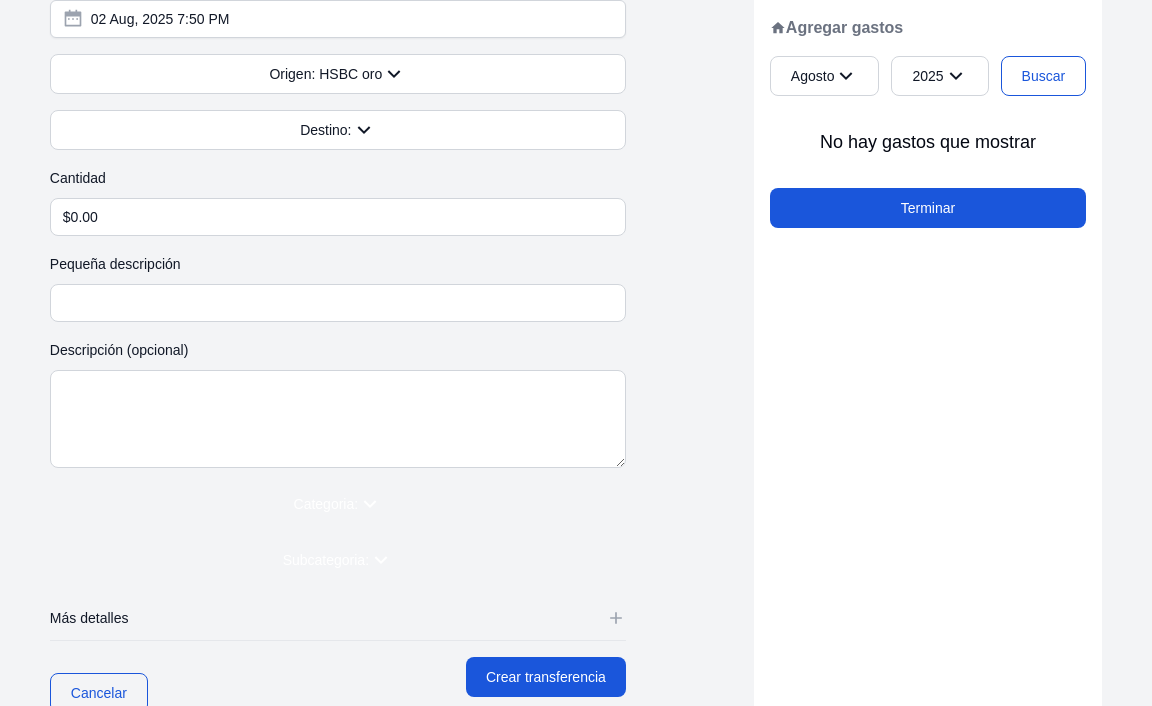
Test: TransferTemplate › Form Validations › Given a user typing one letter and then clicking create a transfer, show validation error for description to be more than 3 characters
Type "a" into the text box labelled "Descripción (opcional)" at [338, 419], box [50, 370, 626, 468]
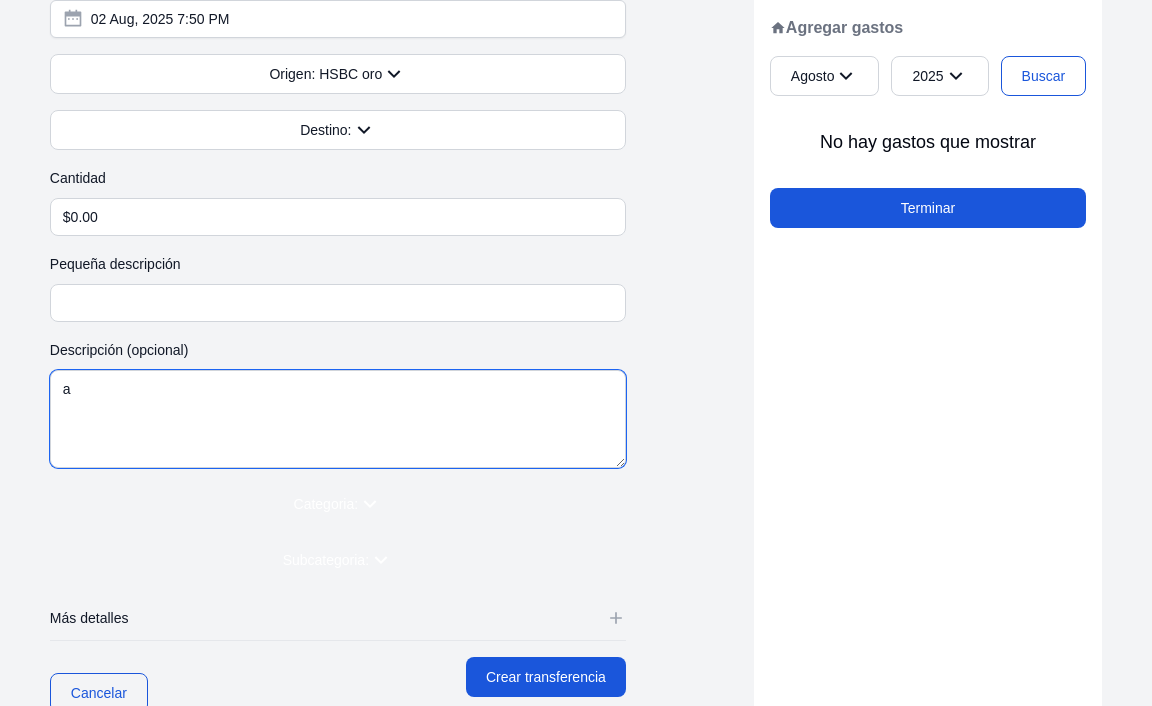
Click the button "Crear transferencia" at [546, 677], box [466, 657, 626, 697]
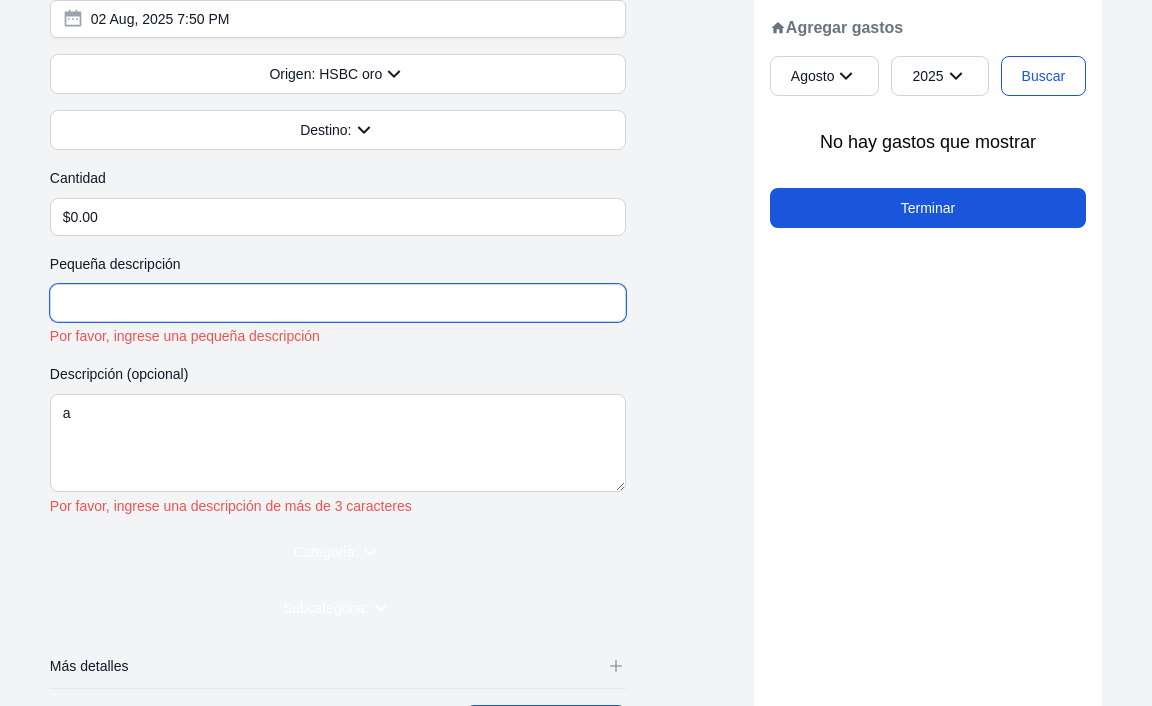
Check: the text "Por favor, ingrese una descripción de más de 3 caracteres" is shown, box [50, 498, 412, 514]
